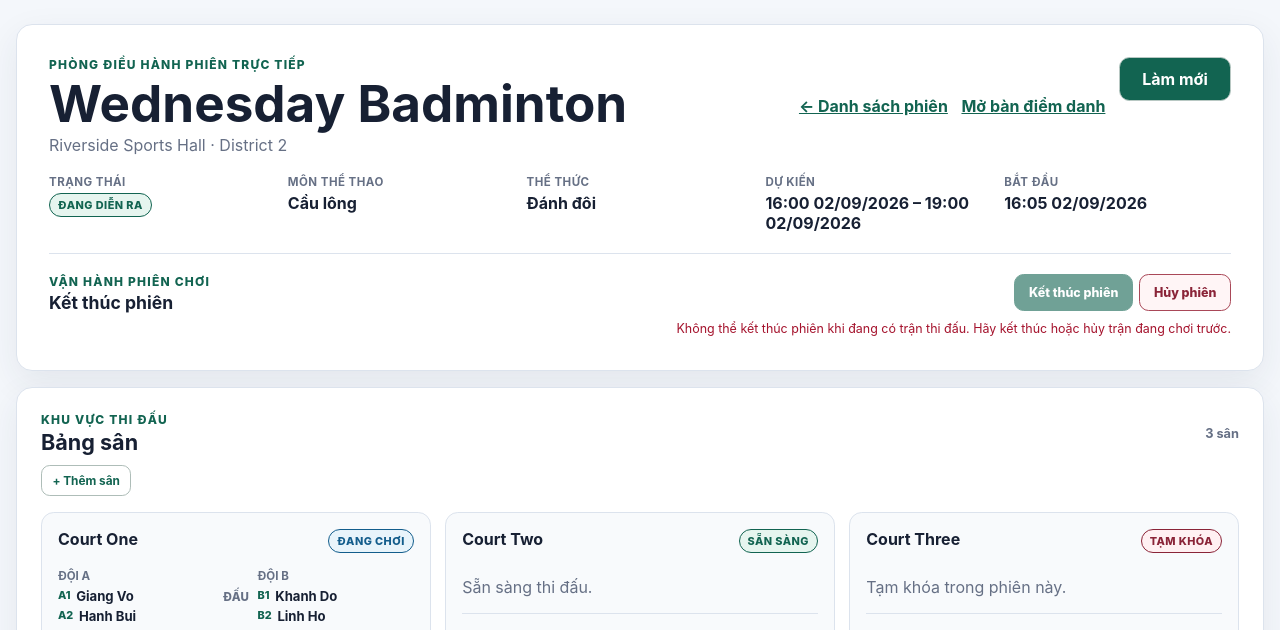
Test: Session lifecycle pending and failure safety › does not retry Cancel after 409 and keeps feedback scoped to Session controls
Click the button "Hủy phiên" at (1185, 292), box x1=1139 y1=274 x2=1231 y2=310
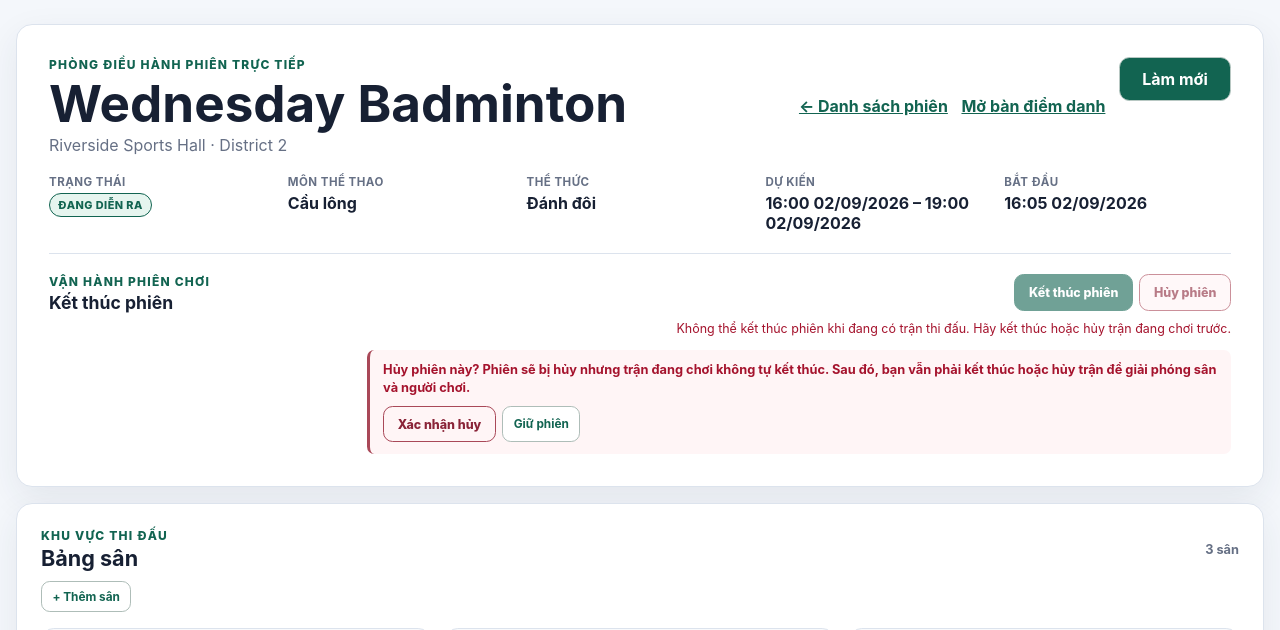
Click the button "Xác nhận hủy" at (440, 424), box x1=383 y1=406 x2=496 y2=442
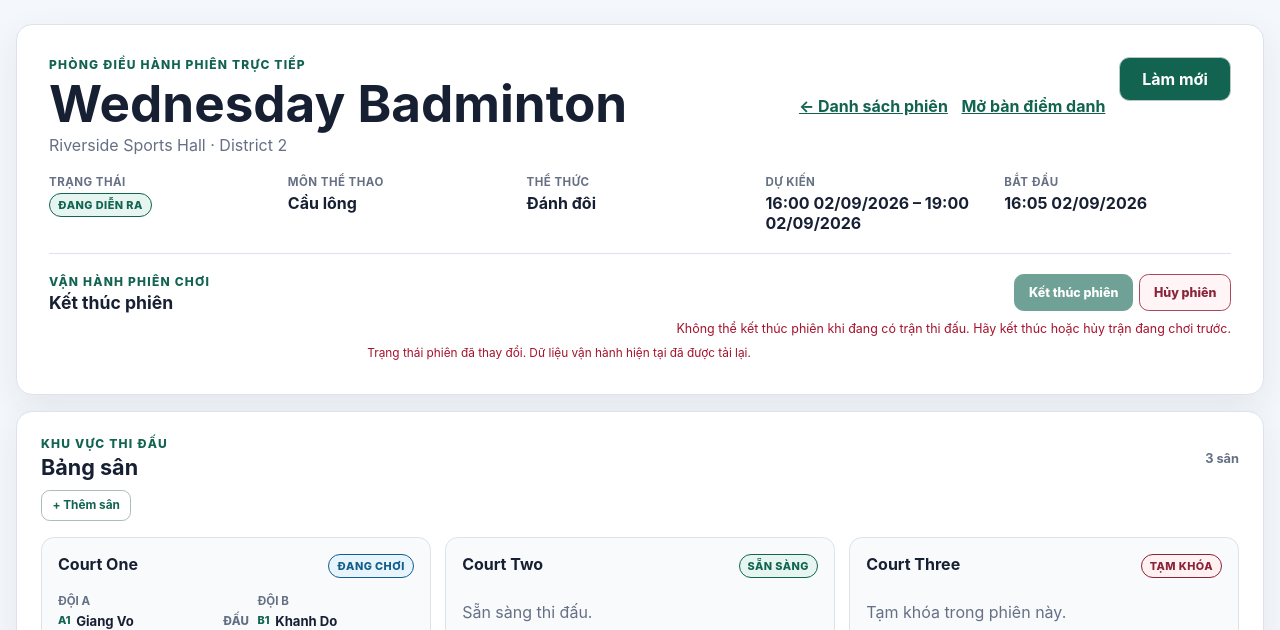
Check: the element "Kết thúc phiên" is shown, box x1=49 y1=253 x2=1231 y2=362
Check: the message "Trạng thái phiên đã thay đổi. Dữ liệu vận hành hiện tại đã được tải lại." is shown, box x1=367 y1=346 x2=751 y2=360
